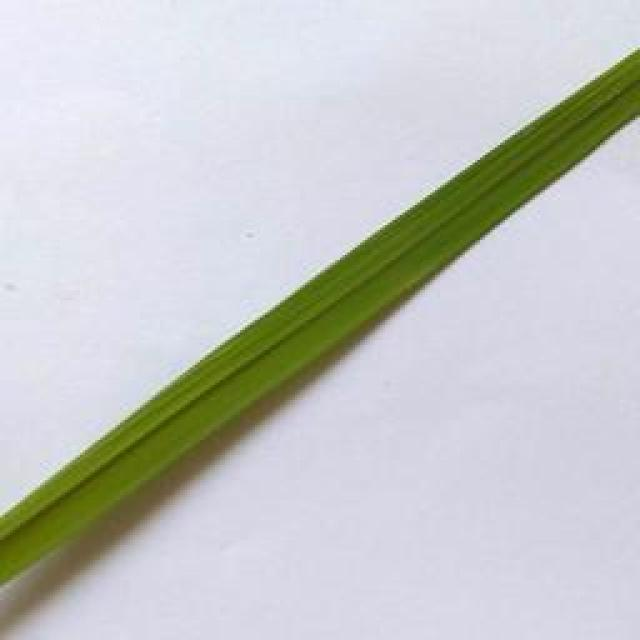Healthy-Plant: (0, 49, 640, 583)
